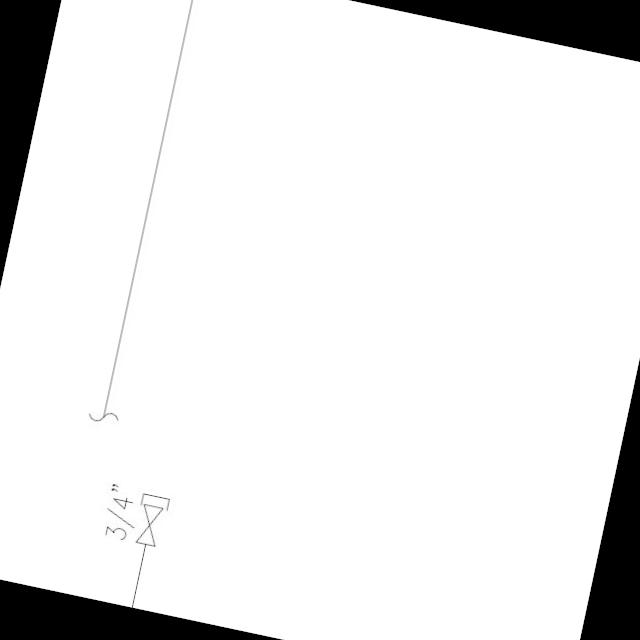EC: (123, 488, 174, 584)
GV: (134, 498, 164, 550)
